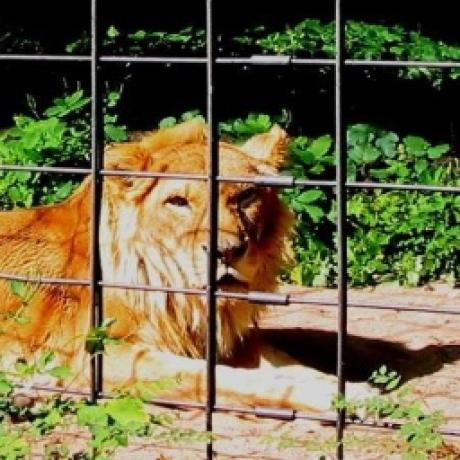Lion: (0, 106, 385, 417)
